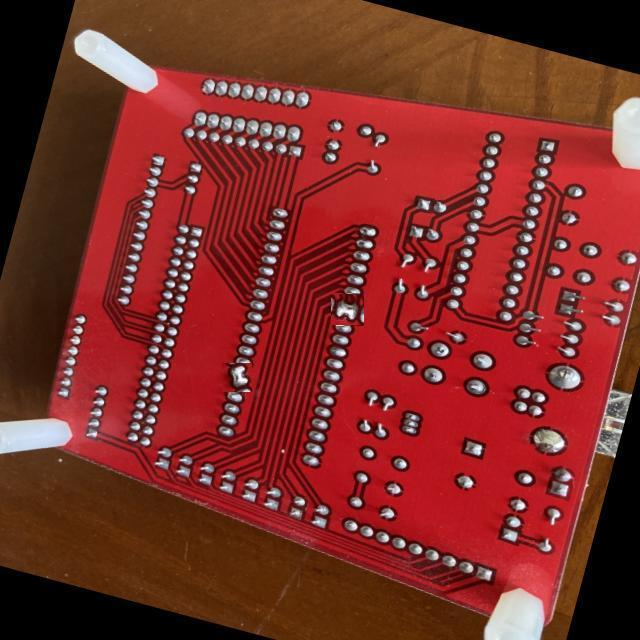damged: (332, 293, 364, 326), (222, 364, 252, 394)
